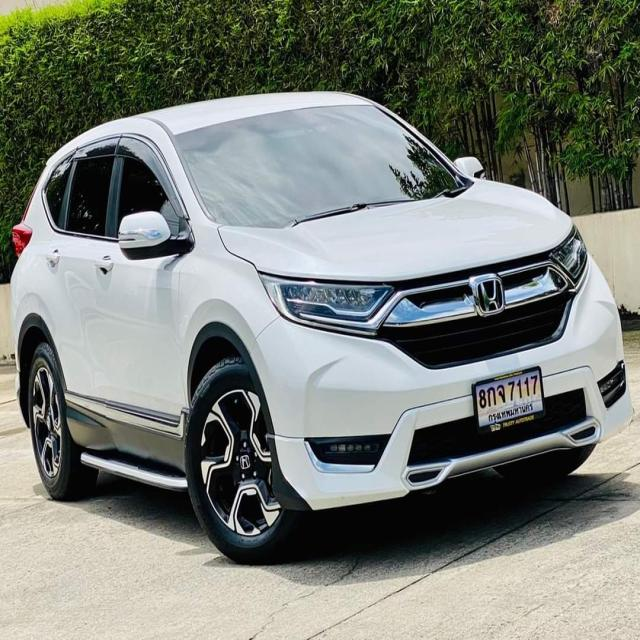license_plate: (472, 362, 550, 442)
